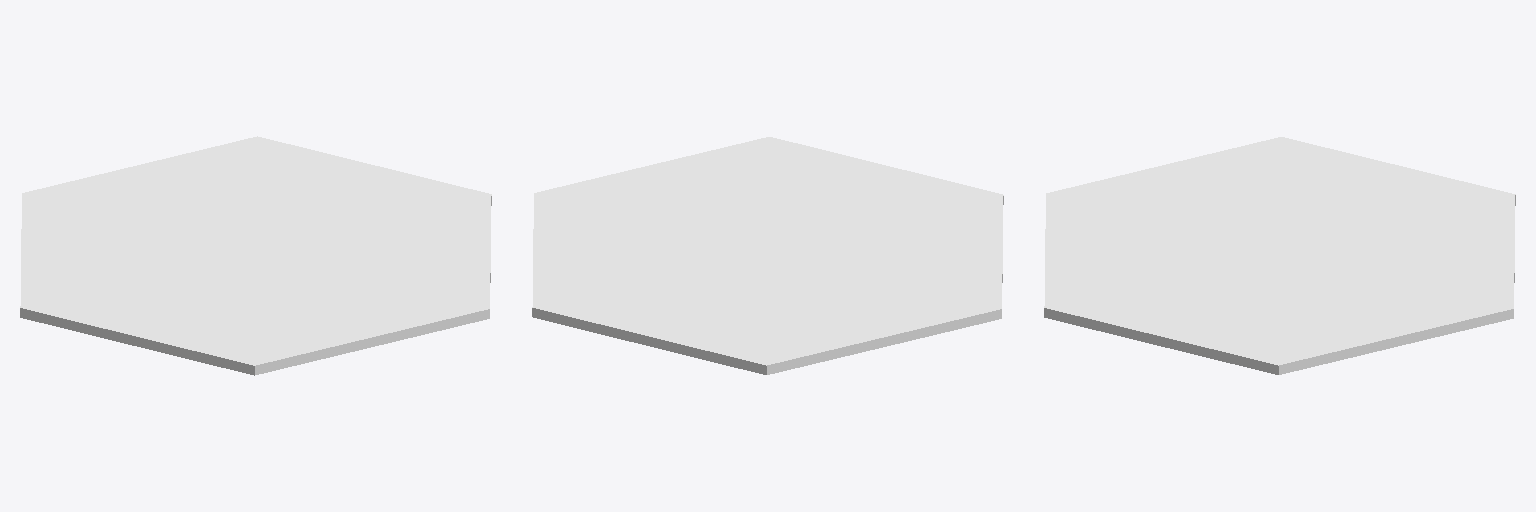
URDF robot description (Hexagon_yellow):
<?xml version="1.0"?>
<!-- created with Phobos 1.0.1 "Capricious Choutengan" -->
  <robot name="Hexagon_yellow">
  
    <material name="yellow">
      <color rgba="1 1 1 1"/>
    </material>

    <link name="Untitled">
      <inertial>
        <origin xyz="0 0 0" rpy="0 0 0"/>
        <mass value="0.001"/>
        <inertia ixx="0.001" ixy="0" ixz="0" iyy="0.001" iyz="0" izz="0.001"/>
      </inertial>
      <visual name="Miniaturebase 20151107-25899-Phehsx-0">
        <origin xyz="0 0 0" rpy="0 1.57 0.72"/>
        <geometry>
          <mesh filename="hexagon.stl" scale="0.3 1 1"/>
        </geometry>
        <material name="yellow"/>
      </visual>
    </link>
    
  </robot>

--- What the picture shows (computed from the rendered views, not written in the file) ---
3 views of the same robot in one strip: view 1: azimuth 30°, elevation 25°; view 2: azimuth 150°, elevation 25°; view 3: azimuth 270°, elevation 25° (orthographic).
Robot: Hexagon_yellow — 1 links, 0 joints (none); root link Untitled; default pose: every joint at zero.
Links seen in each view (by area): view 1: Untitled; view 2: Untitled; view 3: Untitled.
Link boxes in pixels (x1=…): Untitled: x1=20, y1=136, x2=491, y2=375; Untitled: x1=532, y1=137, x2=1003, y2=374; Untitled: x1=1044, y1=137, x2=1515, y2=374.
Bounding box of the posed robot: 45 × 39.09 × 0.934 m (x, y, z).
1 mesh visuals loaded from 1 distinct referenced files (1 binary STL).
